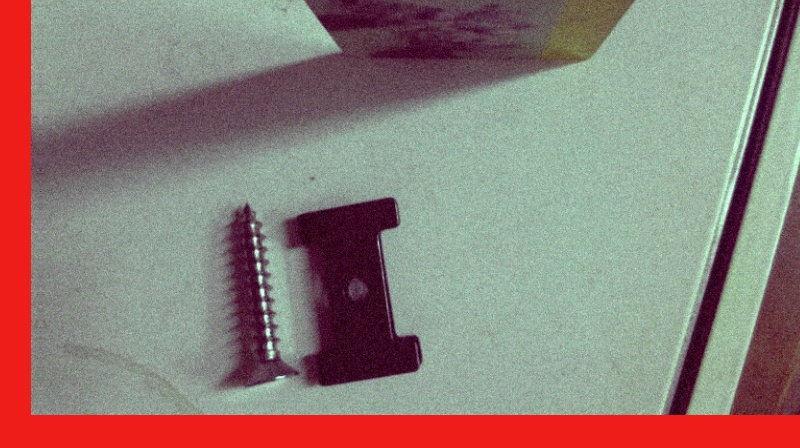O002: (297, 199, 420, 387)
S001: (234, 191, 298, 391)
